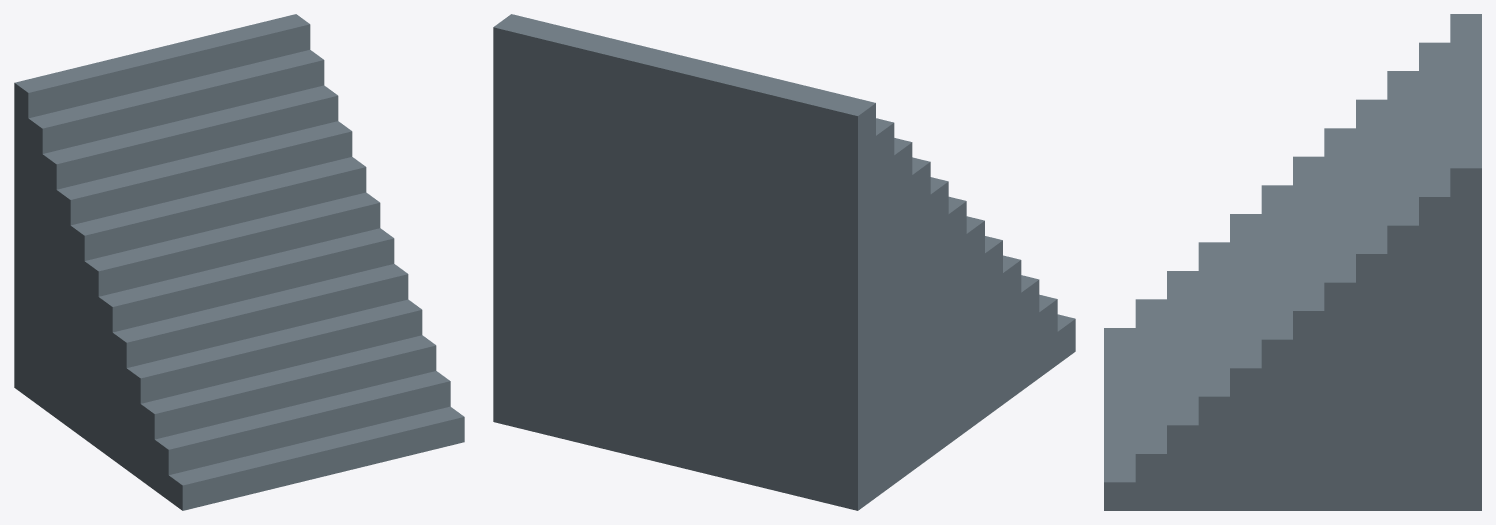
The model's file is base-StairsStraight.fbx.
The picture shows the model from 3 angles, left to right: view 1: azimuth 30°, elevation 25°; view 2: azimuth 150°, elevation 25°; view 3: azimuth 270°, elevation 25°; orthographic projection. The views are drawn at different scales.
Visible parts, largest first — view 1: base-StairsStraight_Step.023, base-StairsStraight_Step.022, base-StairsStraight_Step.021, base-StairsStraight_Step.020, base-StairsStraight_Step.019, base-StairsStraight_Step.018, base-StairsStraight_Step.017, base-StairsStraight_Step.016, base-StairsStraight_Step.015, base-StairsStraight_Step.014, base-StairsStraight_Step.013, base-StairsStraight_Step.012; view 2: base-StairsStraight_Step.023, base-StairsStraight_Step.022, base-StairsStraight_Step.021, base-StairsStraight_Step.020, base-StairsStraight_Step.019, base-StairsStraight_Step.018, base-StairsStraight_Step.017, base-StairsStraight_Step.016, base-StairsStraight_Step.015, base-StairsStraight_Step.014, base-StairsStraight_Step.013, base-StairsStraight_Step.012; view 3: base-StairsStraight_Step.023, base-StairsStraight_Step.022, base-StairsStraight_Step.021, base-StairsStraight_Step.020, base-StairsStraight_Step.019, base-StairsStraight_Step.018, base-StairsStraight_Step.017, base-StairsStraight_Step.016, base-StairsStraight_Step.015, base-StairsStraight_Step.014, base-StairsStraight_Step.013, base-StairsStraight_Step.012.
Boxes of the visible parts, x1,y1,x2,y2 form: base-StairsStraight_Step.023: (14, 14, 310, 397); base-StairsStraight_Step.022: (28, 50, 324, 407); base-StairsStraight_Step.021: (42, 85, 338, 418); base-StairsStraight_Step.020: (56, 121, 352, 428); base-StairsStraight_Step.019: (70, 157, 366, 438); base-StairsStraight_Step.018: (84, 192, 380, 448); base-StairsStraight_Step.017: (98, 228, 394, 459); base-StairsStraight_Step.016: (112, 264, 408, 469); base-StairsStraight_Step.015: (126, 299, 422, 479); base-StairsStraight_Step.014: (140, 335, 436, 489); base-StairsStraight_Step.013: (154, 371, 450, 500); base-StairsStraight_Step.012: (168, 406, 464, 510); base-StairsStraight_Step.023: (493, 14, 875, 510); base-StairsStraight_Step.022: (876, 118, 894, 497); base-StairsStraight_Step.021: (894, 138, 912, 483); base-StairsStraight_Step.020: (912, 157, 930, 470); base-StairsStraight_Step.019: (930, 177, 948, 457); base-StairsStraight_Step.018: (948, 196, 966, 443); base-StairsStraight_Step.017: (966, 216, 984, 430); base-StairsStraight_Step.016: (985, 236, 1002, 417); base-StairsStraight_Step.015: (1003, 255, 1021, 404); base-StairsStraight_Step.014: (1021, 275, 1039, 390); base-StairsStraight_Step.013: (1039, 294, 1057, 377); base-StairsStraight_Step.012: (1057, 314, 1075, 364); base-StairsStraight_Step.023: (1450, 14, 1481, 510); base-StairsStraight_Step.022: (1419, 42, 1450, 510); base-StairsStraight_Step.021: (1387, 71, 1418, 510); base-StairsStraight_Step.020: (1356, 99, 1387, 510); base-StairsStraight_Step.019: (1324, 128, 1355, 510); base-StairsStraight_Step.018: (1293, 156, 1324, 510); base-StairsStraight_Step.017: (1261, 185, 1292, 510); base-StairsStraight_Step.016: (1230, 214, 1261, 510); base-StairsStraight_Step.015: (1198, 242, 1229, 510); base-StairsStraight_Step.014: (1167, 271, 1198, 510); base-StairsStraight_Step.013: (1135, 299, 1166, 510); base-StairsStraight_Step.012: (1104, 328, 1135, 510).
Size of the model in its own units: 290 by 300 by 300.
